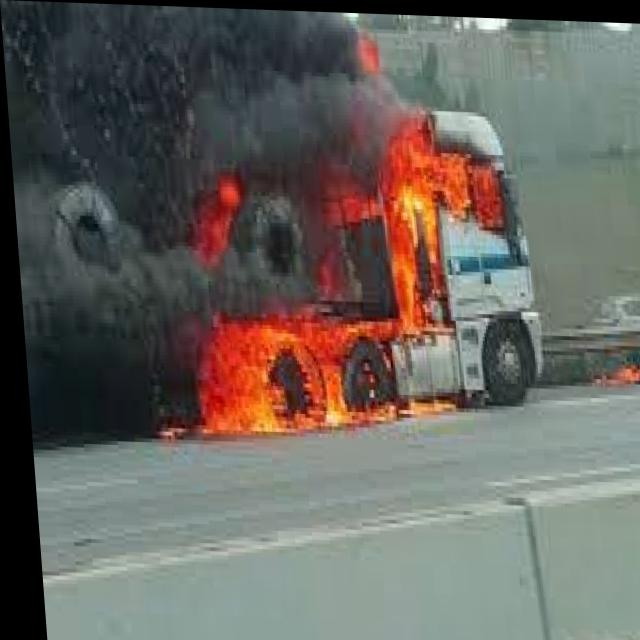fire: (170, 104, 488, 451)
